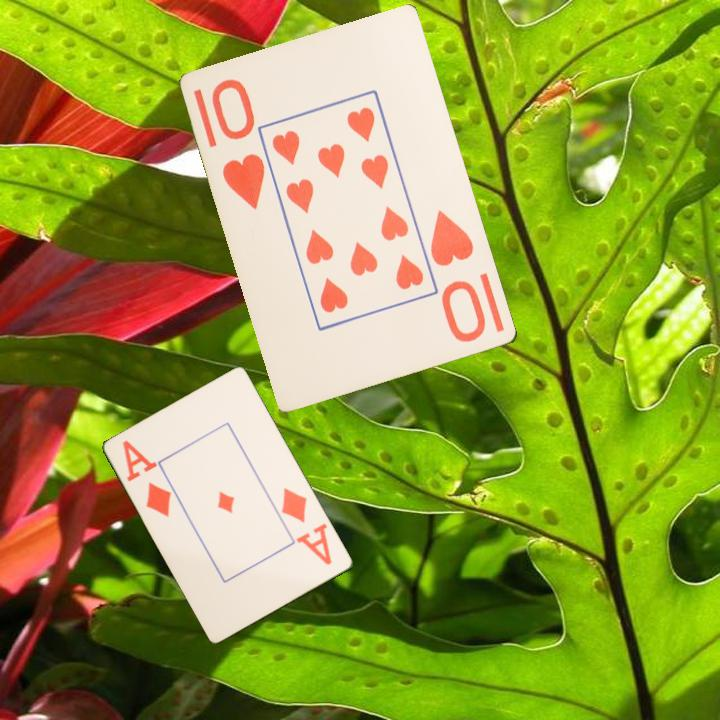10h: (427, 206, 489, 346), (208, 75, 269, 214)
Ad: (278, 484, 335, 568), (119, 436, 175, 520)
